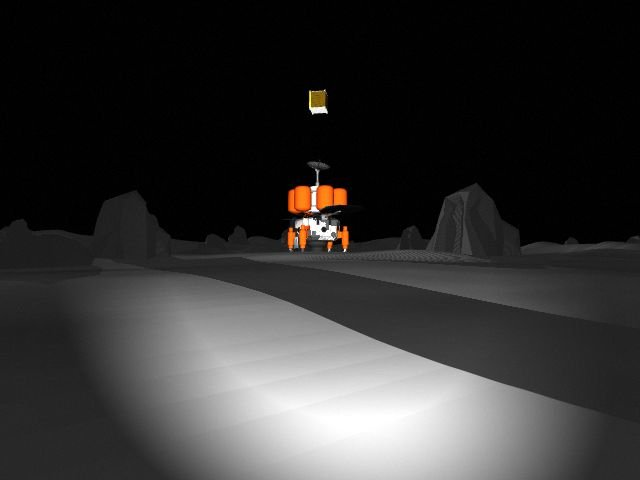cubesat: (303, 84, 341, 122)
